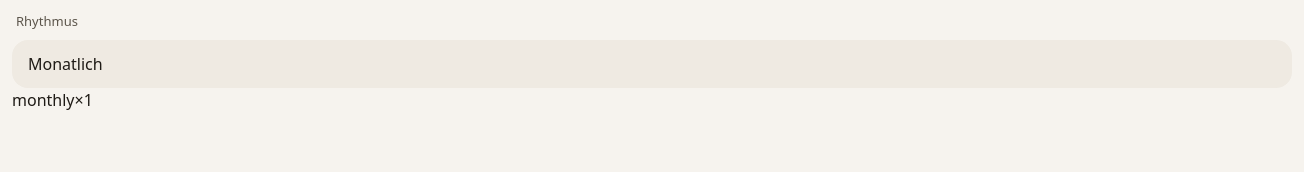
Test: choosing a preset sets unit and interval
Select "Vierteljährlich" in the dropdown labelled "Rhythmus" at coordinates (652, 64), box [12,40,1292,88]
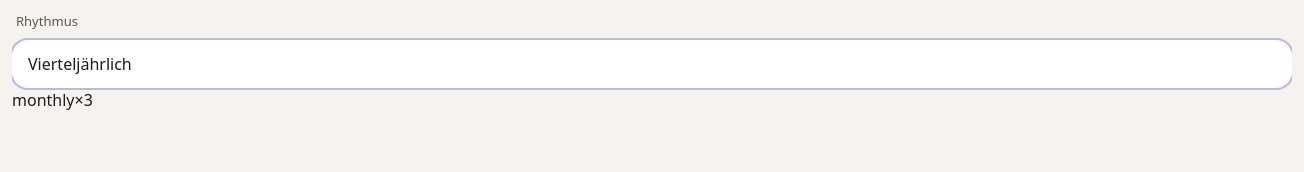
Expected: the text with test id "v" reads "monthly×3", [12,88,93,110]
